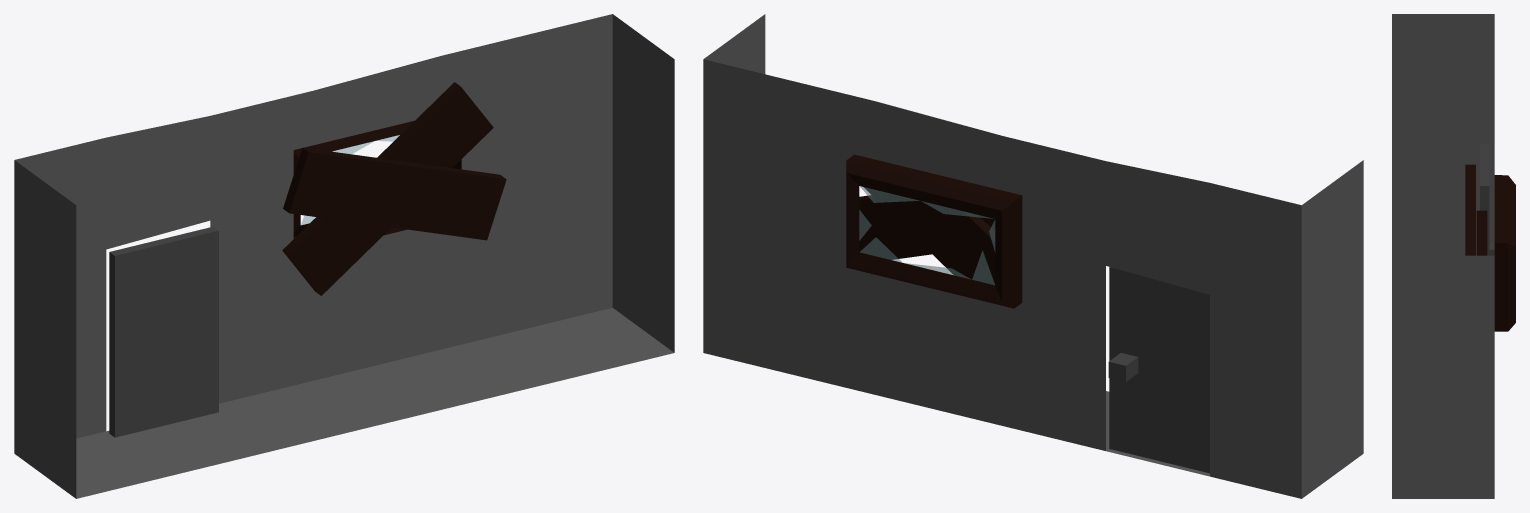
Rendered from home1@in_open_s.FBX.
3 renders of one model, left to right at view 1: azimuth 30°, elevation 25°; view 2: azimuth 150°, elevation 25°; view 3: azimuth 270°, elevation 25°, orthographic. The views are drawn at different scales.
Parts seen in each view (by area): view 1: Box001, Object001; view 2: Box001, Object001; view 3: Box001, Object001.
Part boxes in pixels (x1,y1,x2,y2): Box001: (14, 14, 674, 498); Object001: (109, 226, 218, 437); Box001: (703, 14, 1363, 498); Object001: (1108, 267, 1209, 473); Box001: (1392, 14, 1515, 498); Object001: (1480, 143, 1494, 255).
Bounding box in the file's own units: 54.92 × 25.76 × 11.87.
